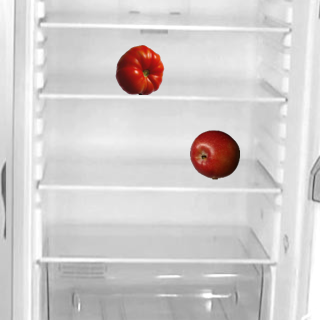Apple Braeburn: (189, 129, 239, 179)
Tomato 3: (114, 44, 164, 94)
